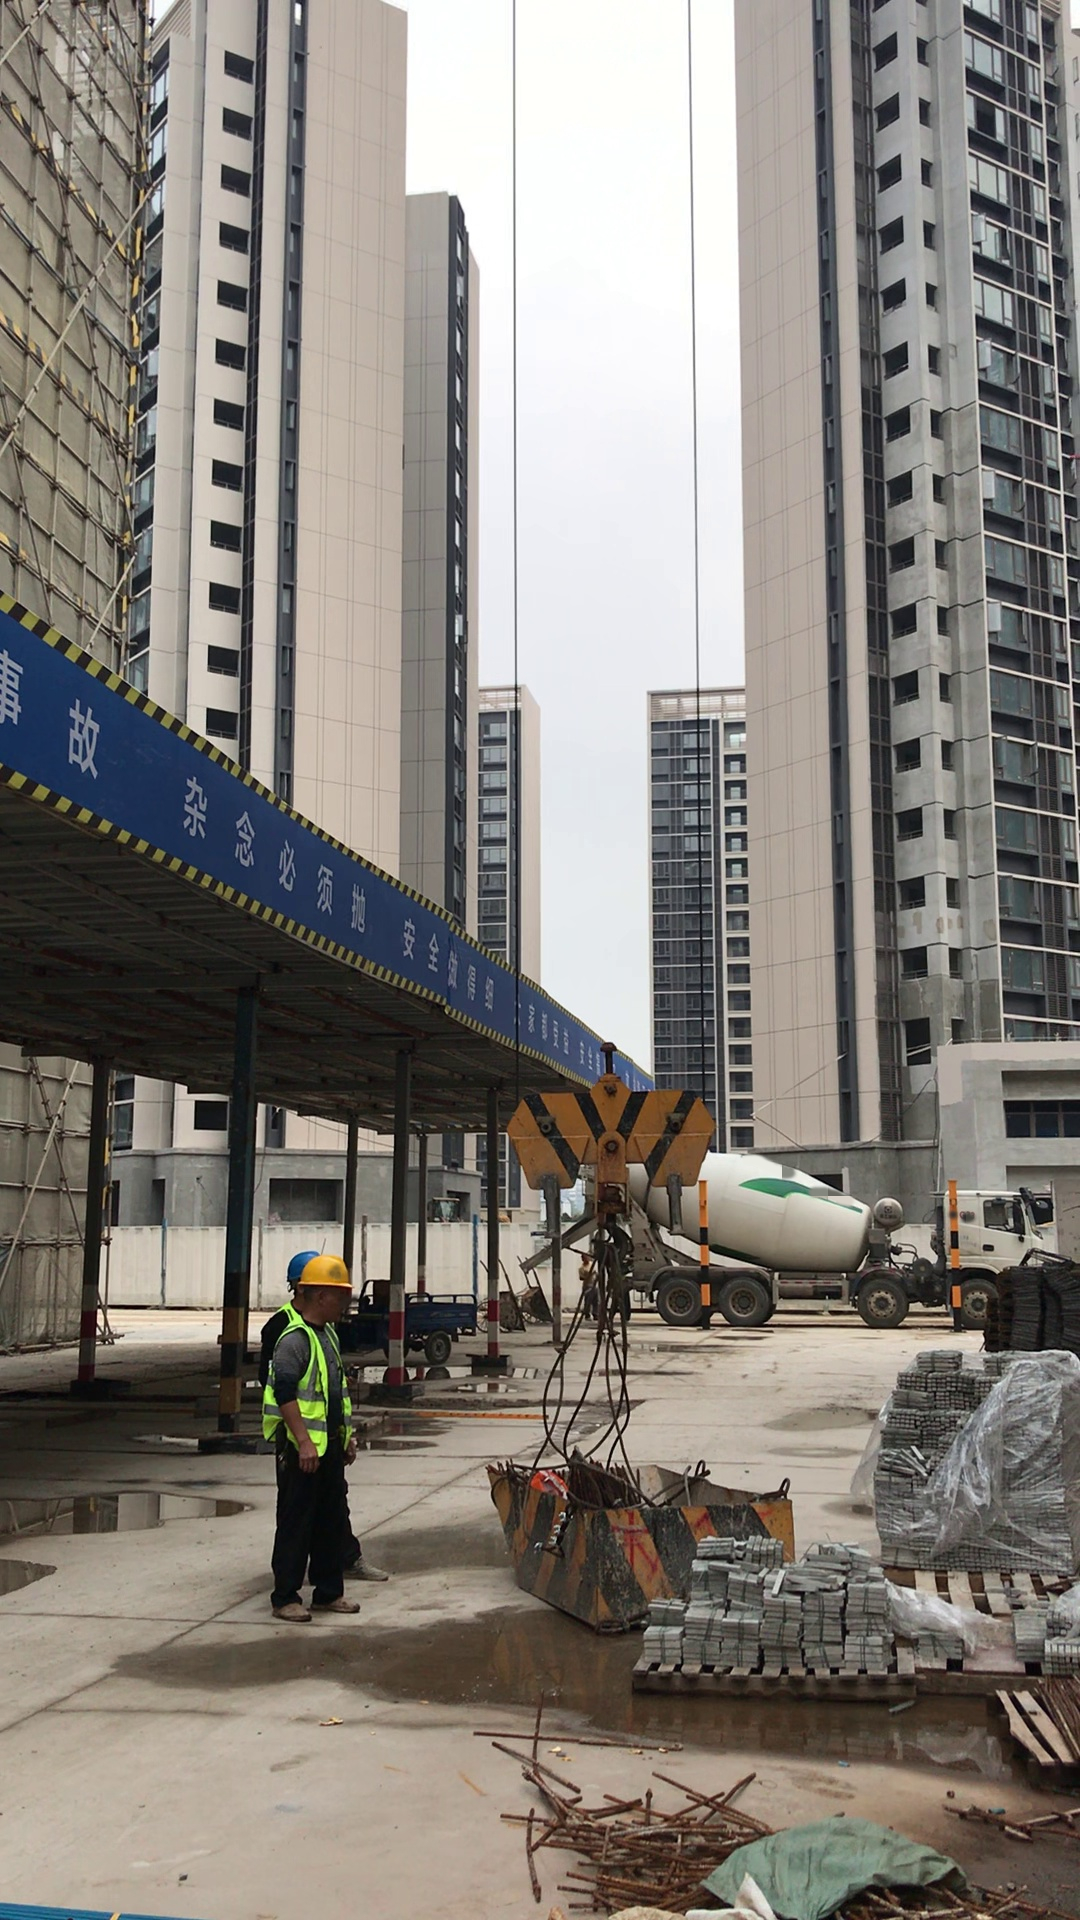helmet: (292, 1252, 364, 1297)
hook: (481, 1061, 710, 1219)
person: (253, 1252, 367, 1634)
slogan: (5, 604, 650, 1091)
vest: (261, 1334, 359, 1448)
